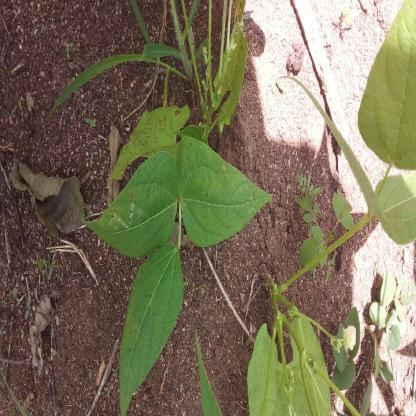Beans_Angular_LeafSpot: (86, 222, 176, 307), (276, 236, 386, 296), (181, 249, 265, 321), (213, 86, 332, 118)
